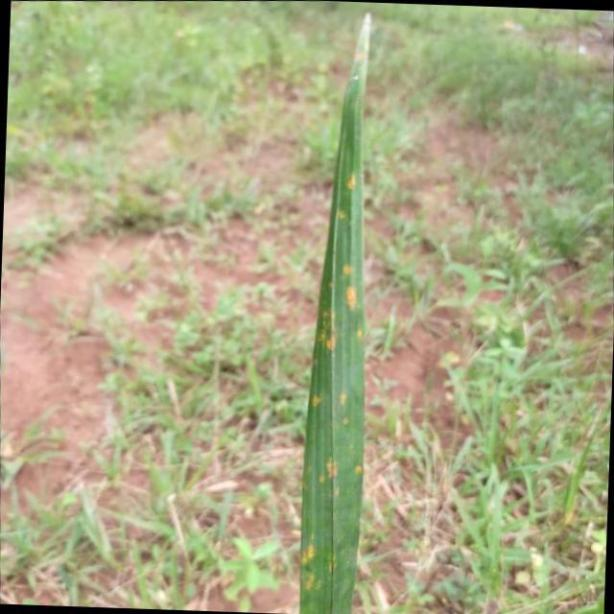Kalium: (299, 0, 368, 614)
